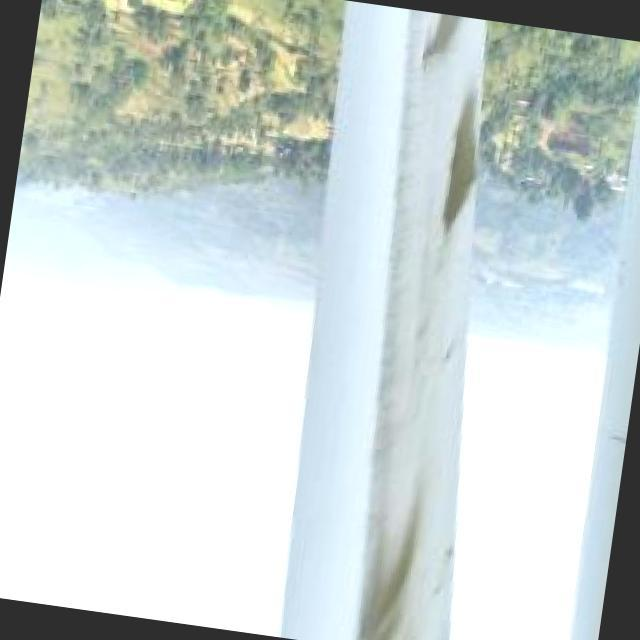Dirt: (356, 12, 481, 640)
